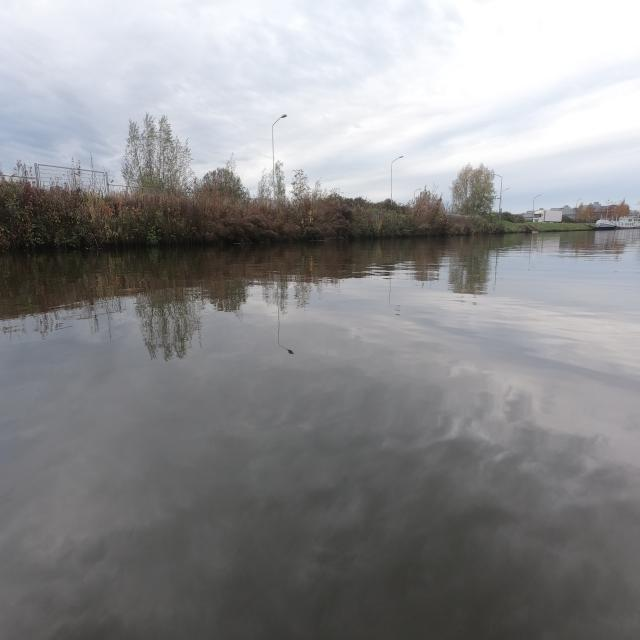boat: (595, 216, 639, 229)
grass: (504, 221, 598, 231)
reed: (0, 174, 511, 252)
sky: (1, 0, 639, 208)
water: (1, 232, 638, 639)
